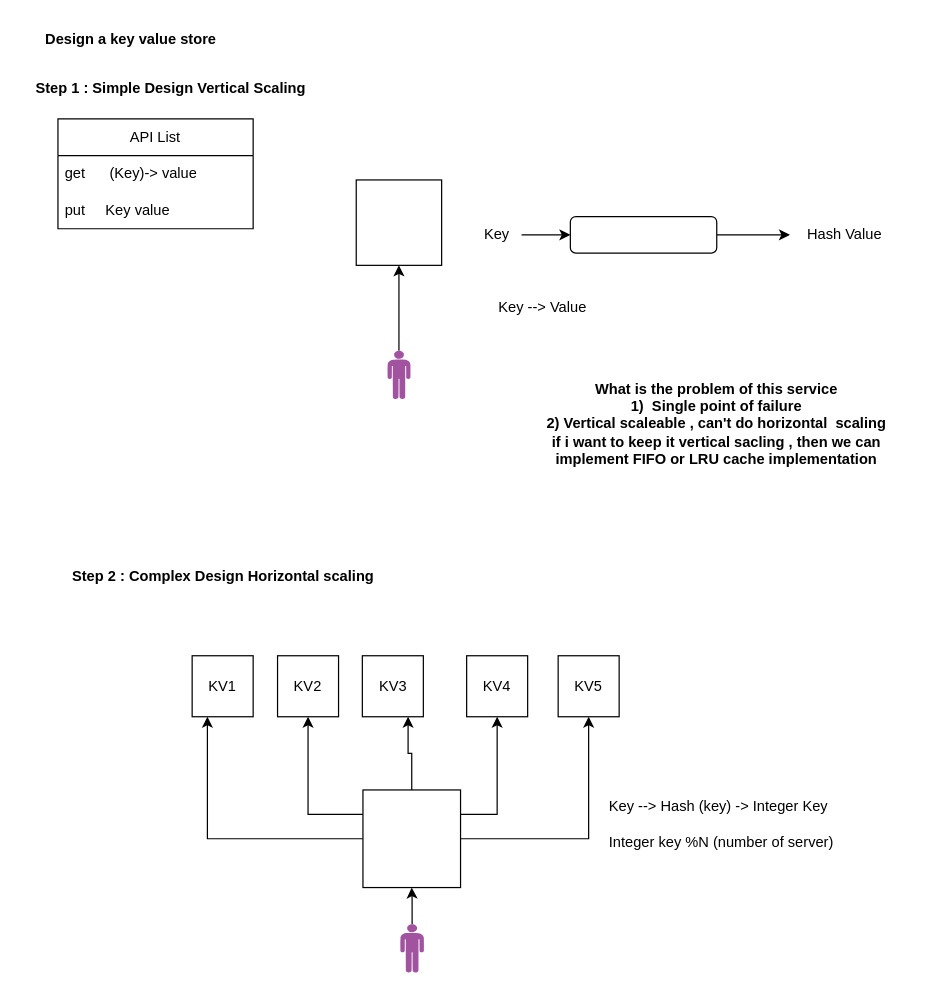
This 932x994 diagram has some shape labels left out. Here are the shapes that lost their labels. From the top down, the box of each, then its label:
(355, 179, 442, 265): Application
(569, 215, 717, 253): Hash Function
(362, 789, 461, 888): Application Server
